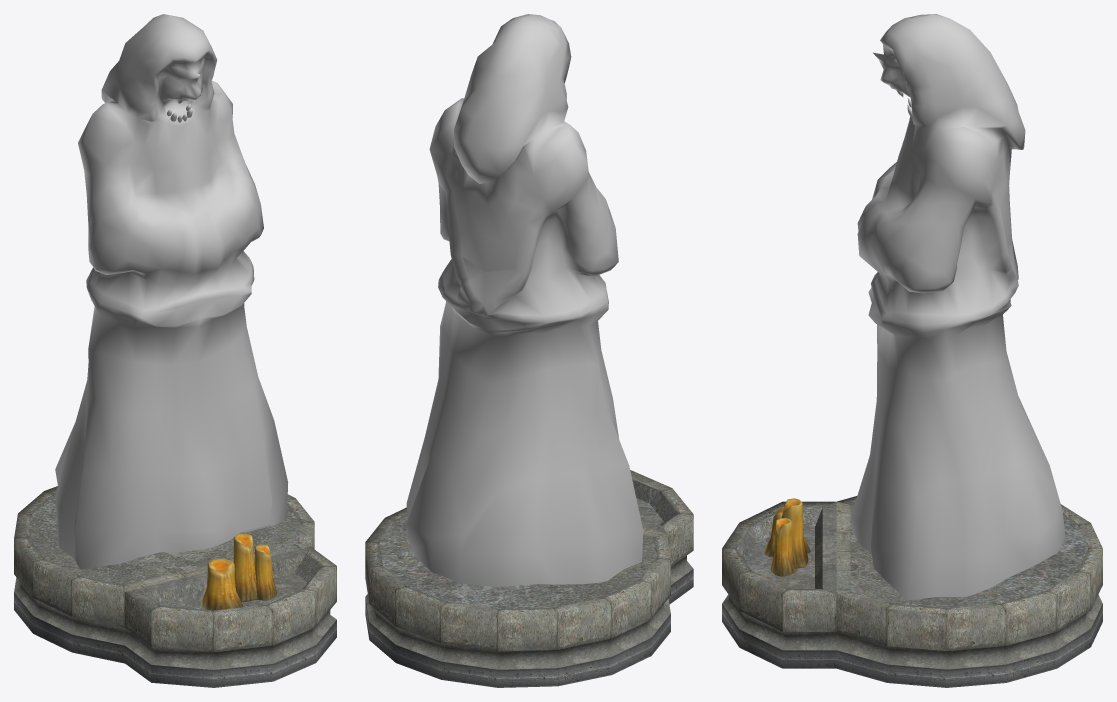
The model's file is MonkD2_statue.FBX.
The picture shows the model from 3 angles, left to right: view 1: azimuth 30°, elevation 25°; view 2: azimuth 150°, elevation 25°; view 3: azimuth 270°, elevation 25°; orthographic projection. The views are drawn at different scales.
Parts seen in each view (by area): view 1: mmm, Cylinder05; view 2: mmm, Cylinder05; view 3: mmm, Cylinder05.
Part boxes in pixels (left/top/right/bottom): mmm: left=55, top=14, right=288, bottom=568; Cylinder05: left=14, top=486, right=336, bottom=687; mmm: left=406, top=14, right=643, bottom=587; Cylinder05: left=365, top=470, right=693, bottom=687; mmm: left=851, top=14, right=1065, bottom=600; Cylinder05: left=722, top=496, right=1102, bottom=687.
Bounding box in the file's own units: 252 × 542 × 308.
